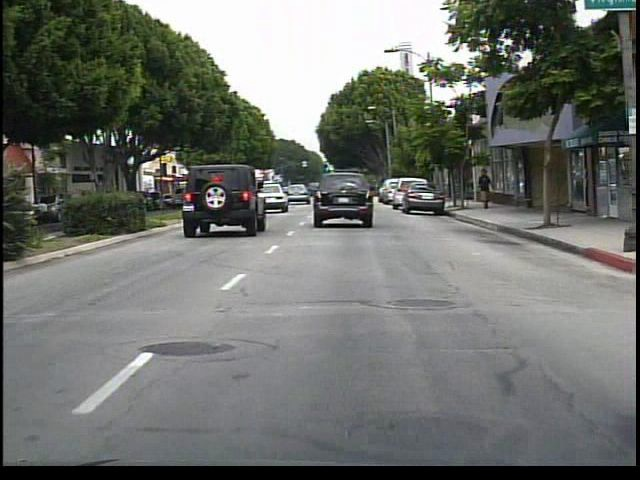person: (474, 166, 497, 212)
